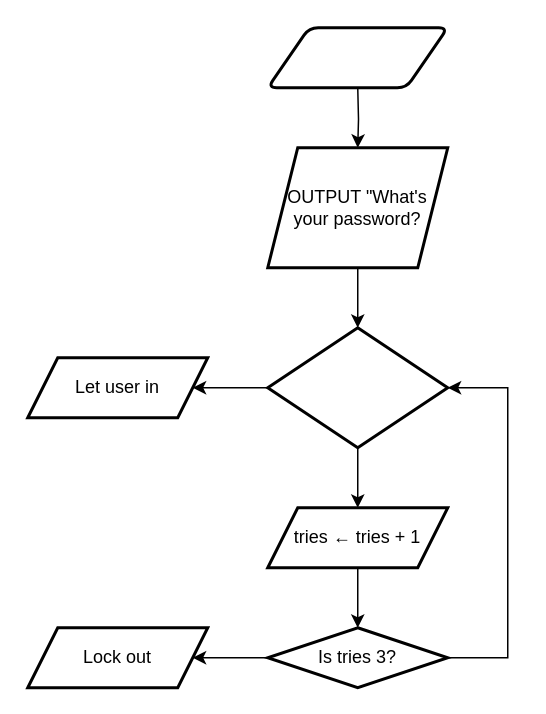
Image size: 546x714. Some labels were removed from this diagram. The centre of each missing label's shape, as x and y in pixels:
"Is password correct?" belongs at point 357,387.
"tries ← 0" belongs at point 357,57.
